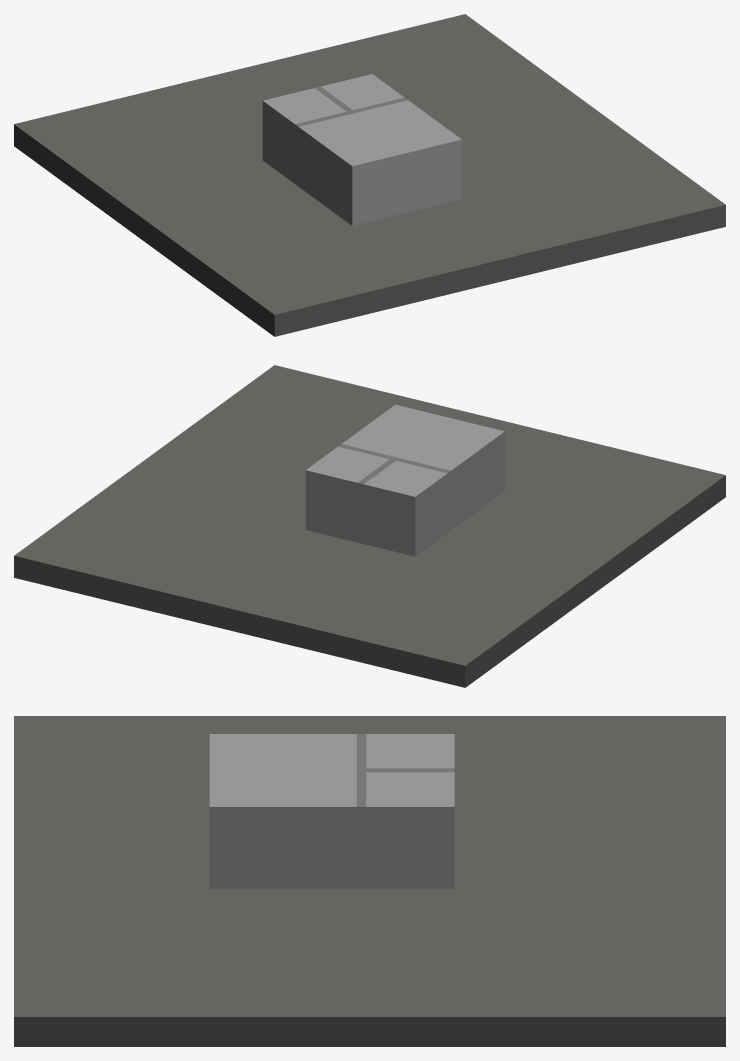
Rendered from SO_Mousepad_01.fbx.
The picture shows the model from 3 angles, top to bottom: view 1: azimuth 30°, elevation 25°; view 2: azimuth 150°, elevation 25°; view 3: azimuth 270°, elevation 25°; orthographic projection. The views are drawn at different scales.
Parts seen in each view (by area): view 1: SO_Mousepad_01; view 2: SO_Mousepad_01; view 3: SO_Mousepad_01.
Part boxes in pixels (<box>): SO_Mousepad_01: <box>14,14,725,336</box>; SO_Mousepad_01: <box>14,365,725,687</box>; SO_Mousepad_01: <box>14,716,725,1046</box>.
Bounding box in the file's own units: 0.5978 × 0.1035 × 0.5978.
